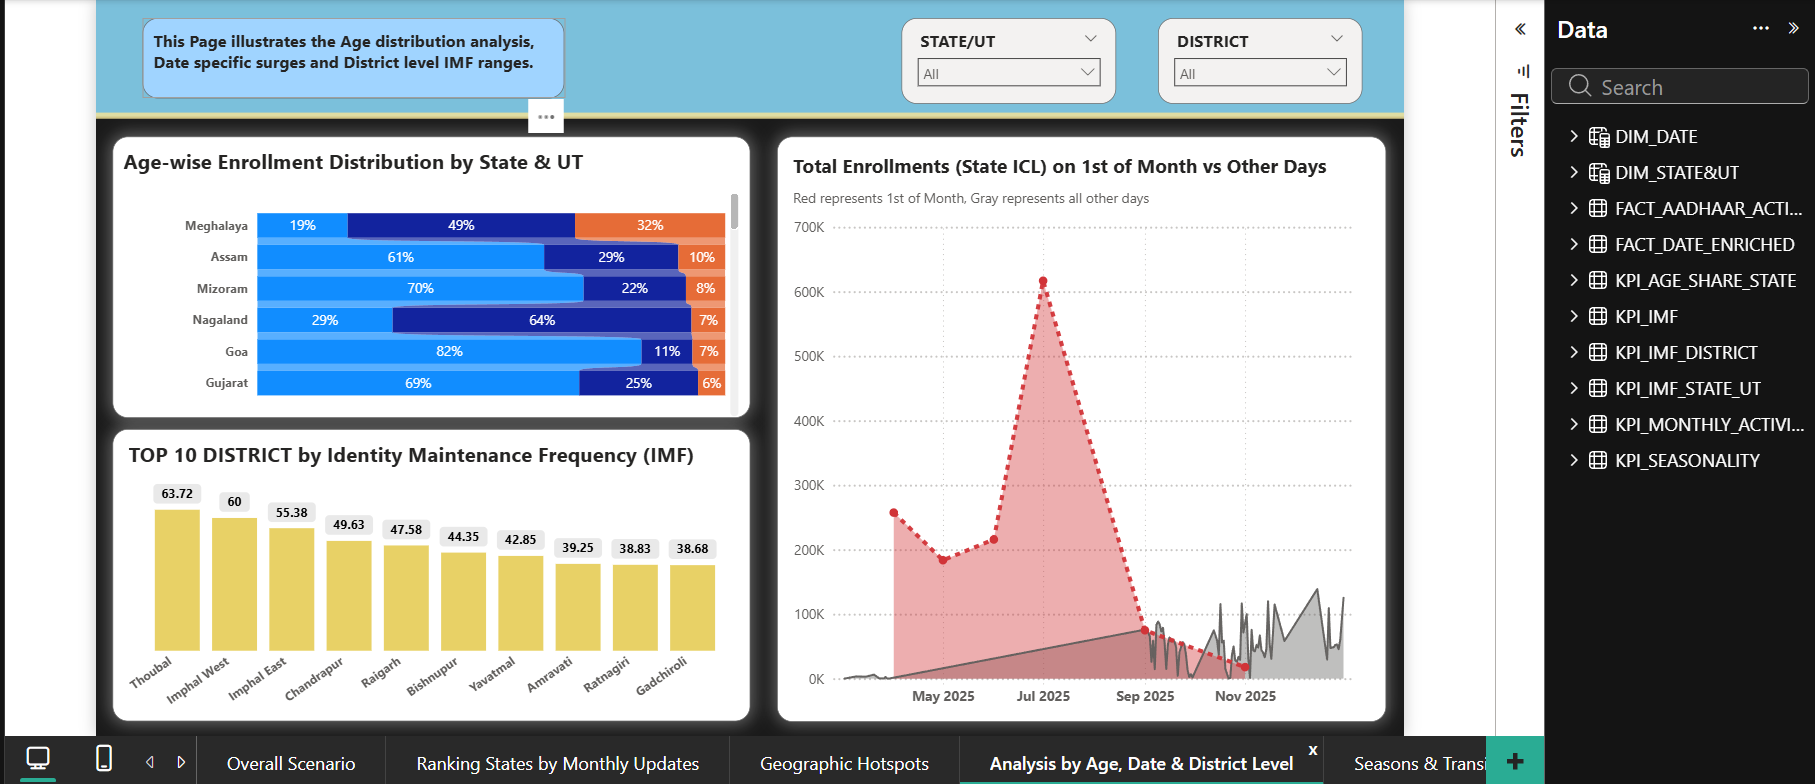

This screenshot's page, from the dashboard's own definition file:
{"tool":"powerbi","page":{"name":"Analysis by Age, Date & District Level","canvas":[1280,720],"ordinal":3},"visuals":[{"type":"shape","box":[0,0,1280,114.3],"z":0},{"type":"shape","box":[0,92.9,1280,41.4],"z":1000},{"type":"hundredPercentStackedBarChart","title":"Age-wise Enrollment Distribution by State & UT","fields":{"Y":["Sum(KPI_AGE_SHARE.SHARE_0_5)","Sum(KPI_AGE_SHARE.SHARE_5_17)","Sum(KPI_AGE_SHARE.SHARE_18_GREATER)"],"Category":["DIM_STATE&UT.STATE/UT"]},"box":[16.2,133.8,623.8,275],"z":2000},{"type":"clusteredColumnChart","title":"TOP 10 DISTRICT by Identity Maintenance Frequency (IMF)","fields":{"Category":["KPI_IMF_DISTRICT.DISTRICT"],"Y":["Sum(KPI_IMF_DISTRICT.IMF_DISTRICT)"]},"box":[16.2,420,623.8,286.2],"z":3000},{"type":"slicer","fields":{"Values":["DIM_STATE&UT.STATE/UT"]},"box":[788.6,17.1,210,84.3],"z":4000},{"type":"slicer","fields":{"Values":["KPI_IMF_DISTRICT.DISTRICT"]},"box":[1038.6,17.1,200,84.3],"z":6000},{"type":"lineChart","title":"Total Enrollments (State ICL) on 1st of Month vs Other Days","fields":{"Series":["DIM_DATE_ENRICHED.IS_MONTH_START"],"Y":["Sum(DIM_DATE_ENRICHED.ICL)"],"Category":["DIM_DATE_ENRICHED.DATE.Variation.Date Hierarchy.Year","DIM_DATE_ENRICHED.DATE.Variation.Date Hierarchy.Quarter","DIM_DATE_ENRICHED.DATE.Variation.Date Hierarchy.Month","DIM_DATE_ENRICHED.DATE.Variation.Date Hierarchy.Day"]},"box":[666.2,133.8,596.2,572.5],"z":8000},{"type":"textbox","box":[45.7,17.1,412.9,78.6],"z":9000}]}

Visuals, with their boxes on the page's 1280x720 design canvas (x1, y1, x2, y2). These are canvas units, not pixel positions in the 1815x784 screenshot, which may show the page scaled, cropped or inside an application window:
shape: bbox(0, 0, 1280, 114)
shape: bbox(0, 93, 1280, 134)
"Age-wise Enrollment Distribution by State & UT" hundredPercentStackedBarChart: bbox(16, 134, 640, 409)
"TOP 10 DISTRICT by Identity Maintenance Frequency (IMF)" clusteredColumnChart: bbox(16, 420, 640, 706)
slicer - DIM_STATE&UT.STATE/UT: bbox(789, 17, 999, 101)
slicer - KPI_IMF_DISTRICT.DISTRICT: bbox(1039, 17, 1239, 101)
"Total Enrollments (State ICL) on 1st of Month vs Other Days" lineChart: bbox(666, 134, 1262, 706)
textbox: bbox(46, 17, 459, 96)
